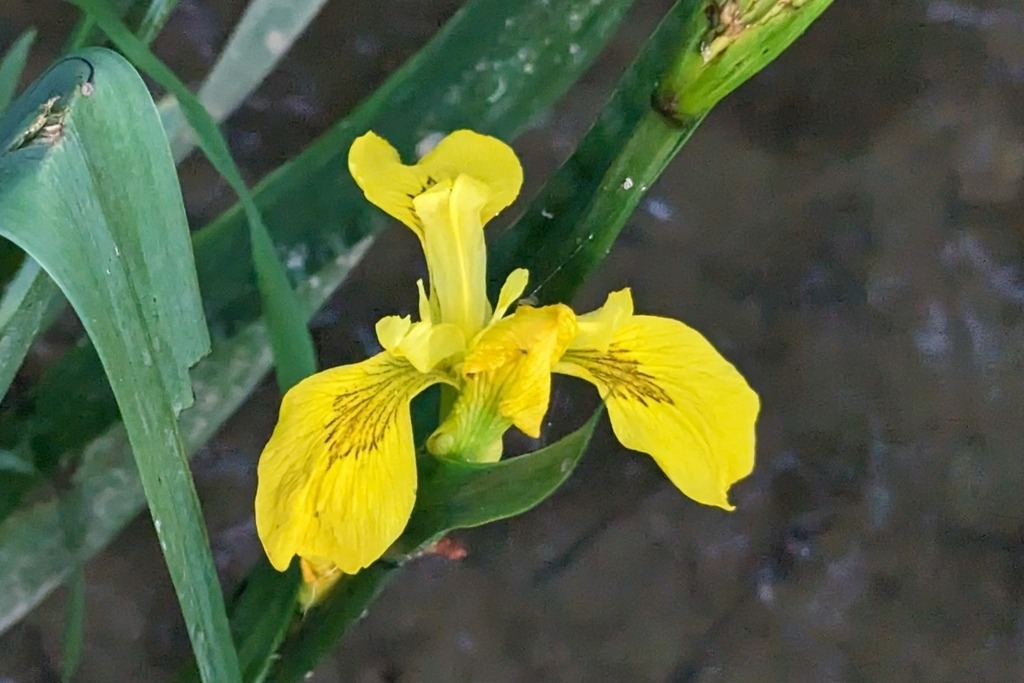yellow flag iris: (252, 125, 762, 580)
